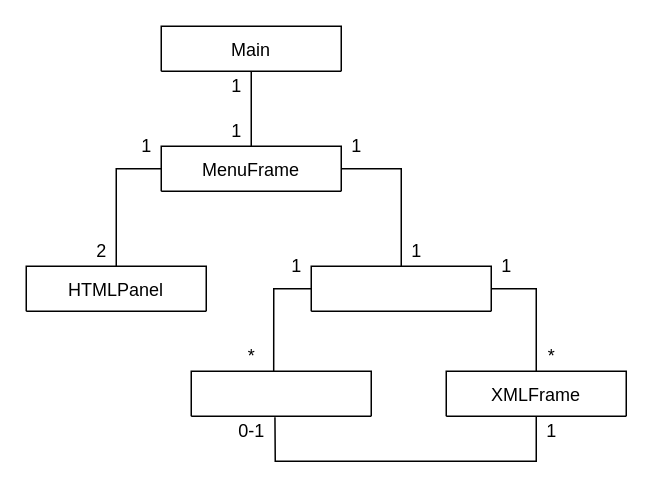
This 653x489 diagram has some shape labels left out. The shapes that lost their labels are listed below. From the top down, each one's centre as x and y in pixels, then its label:
At (400,288): "ParsingPanel".
At (280,393): "XMLFile".
